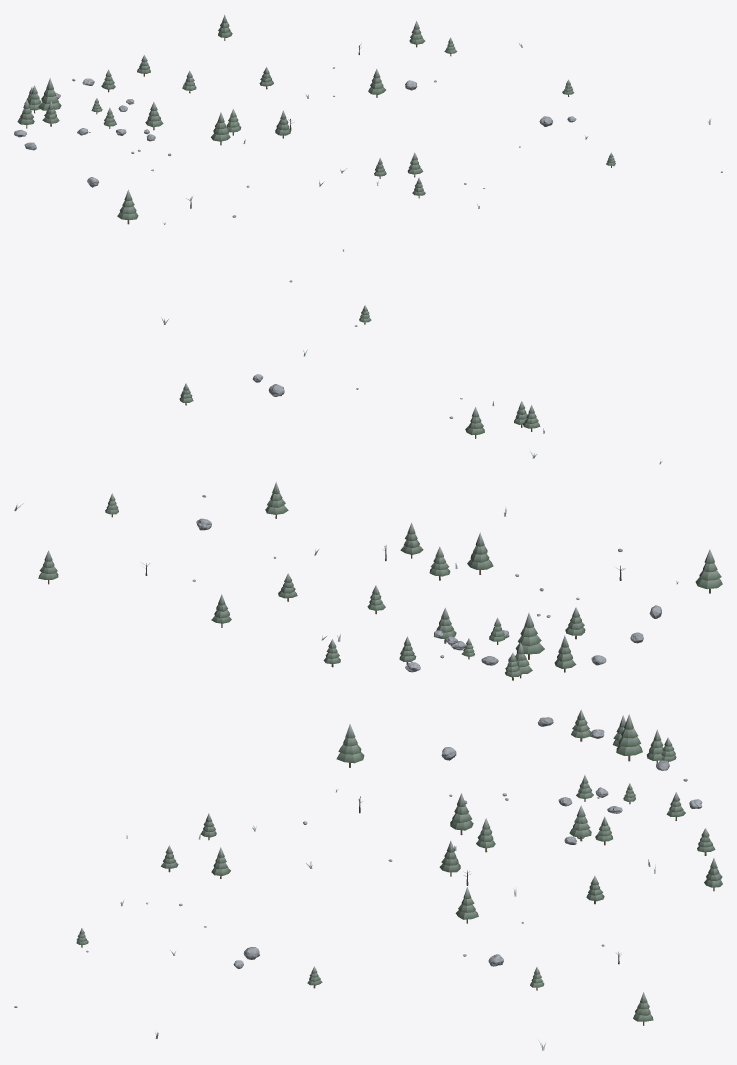
File: frost_land_scatter_c16_11.glb
The picture shows the model from 3 angles, top to bottom: view 1: azimuth 30°, elevation 25°; view 2: azimuth 150°, elevation 25°; view 3: azimuth 270°, elevation 25°; orthographic projection. The views are drawn at different scales.
Visible parts, largest first — view 1: frost_land_scatter_c16_11; view 2: frost_land_scatter_c16_11; view 3: frost_land_scatter_c16_11.
Part boxes in pixels (x1=…): frost_land_scatter_c16_11: x1=14, y1=14, x2=722, y2=251; frost_land_scatter_c16_11: x1=14, y1=280, x2=722, y2=680; frost_land_scatter_c16_11: x1=14, y1=709, x2=722, y2=1050.
Bounding box in the file's own units: 249 × 30.37 × 227.
